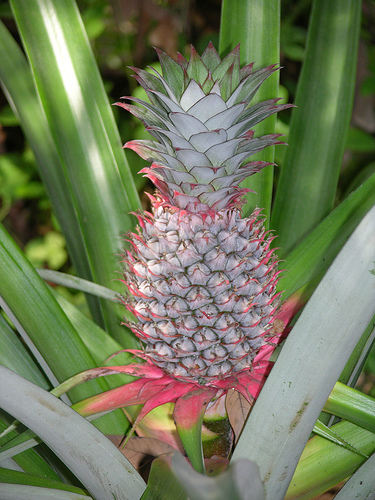pineapple: (120, 45, 300, 382)
